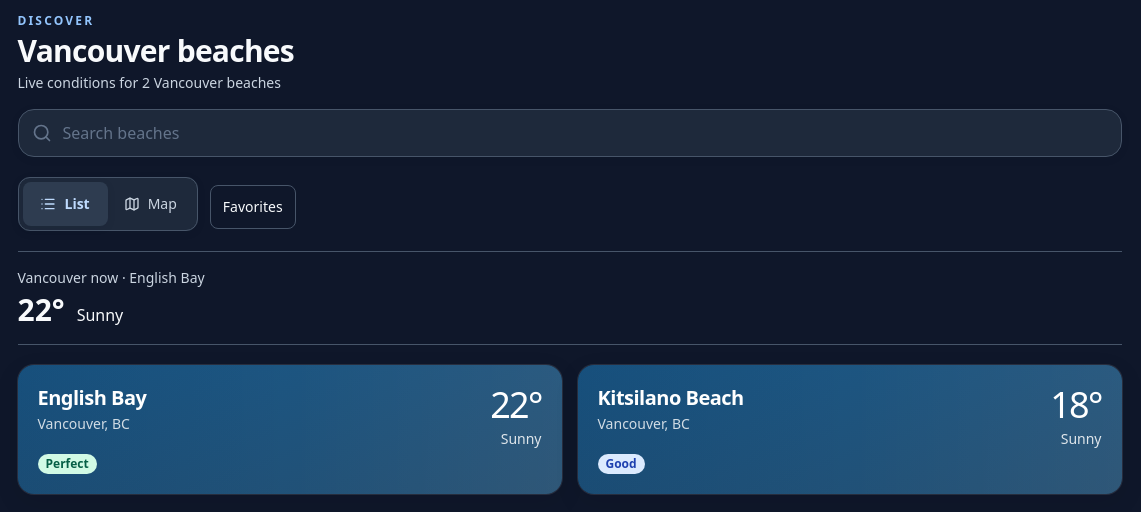
Test case: DiscoveryView (task 007) › filters beaches by name and can clear the search
Type "Kits" into the search field labelled "Search beaches" at (570, 133), box [18,109,1122,157]
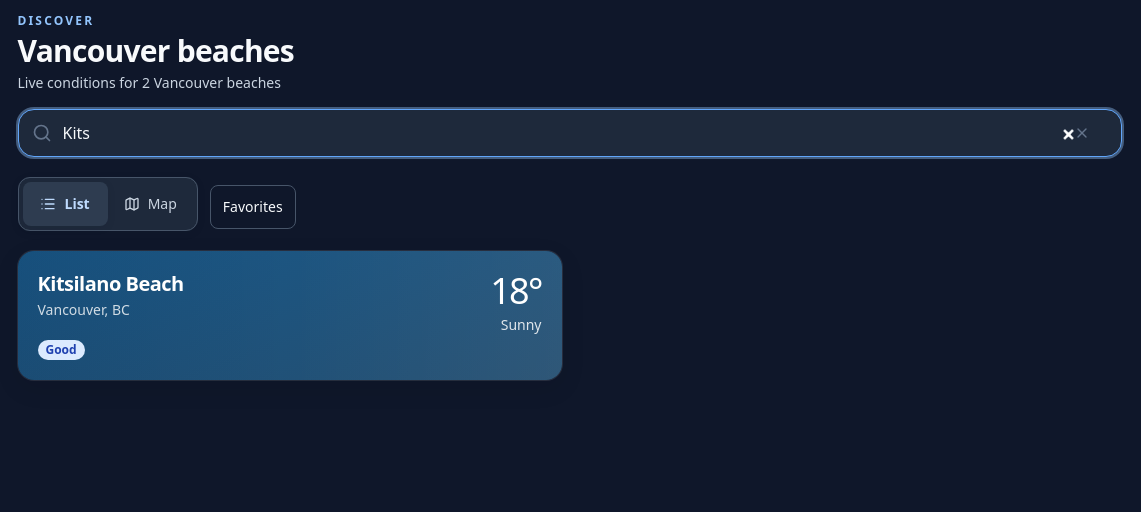
Expected: the text "Kitsilano Beach" is shown, [38,270,184,297]
Now the text "English Bay" is gone
Click the button named "Clear search" at (1090, 133), box [1068,111,1112,155]
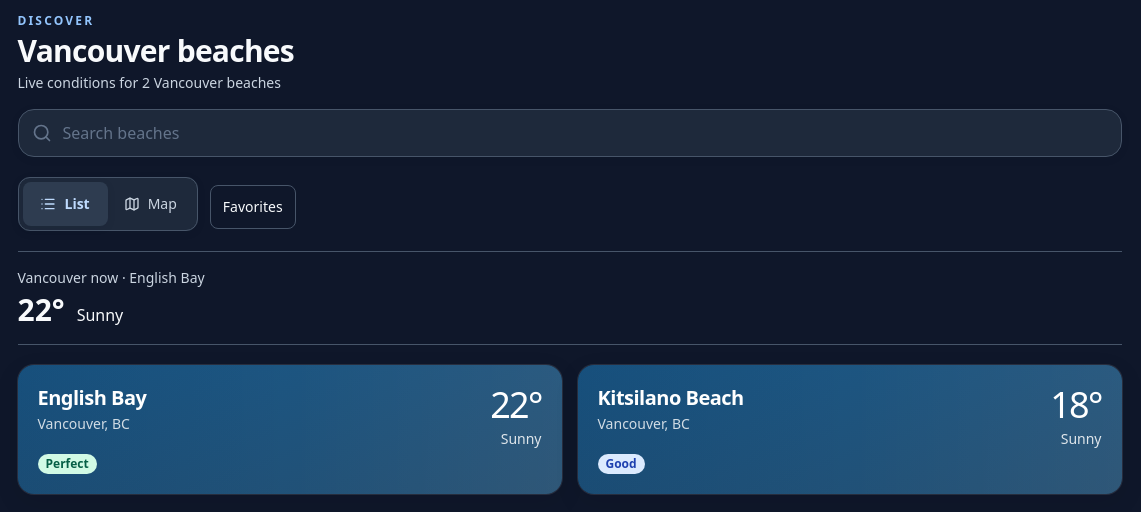
Now the text "English Bay" is shown, box [38,384,146,411]
